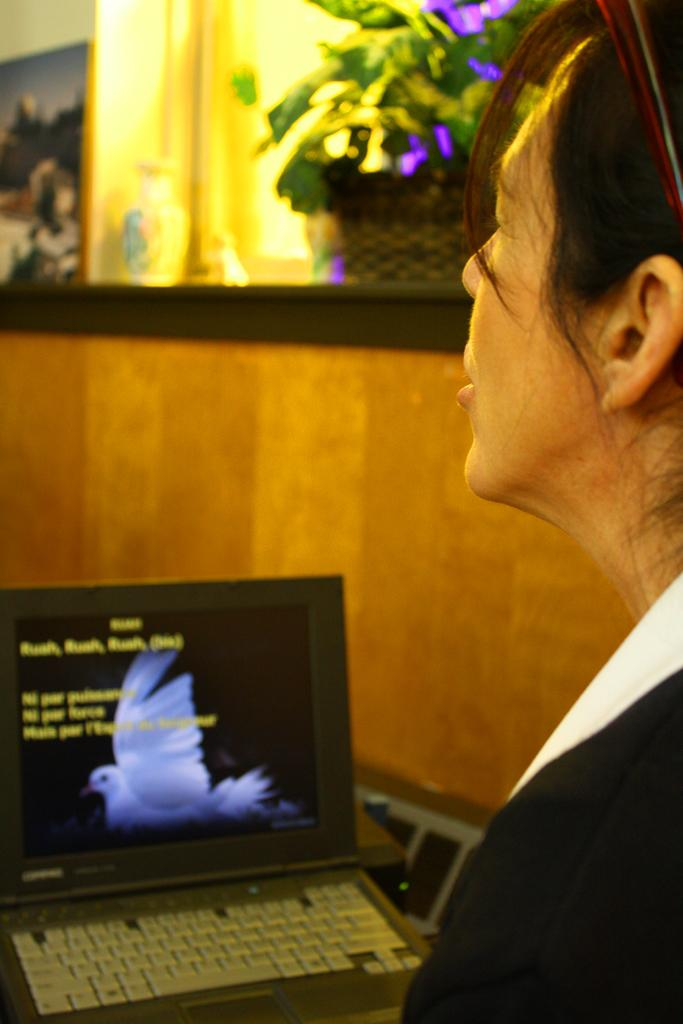Computer-keyboard: (12, 879, 427, 1023)
